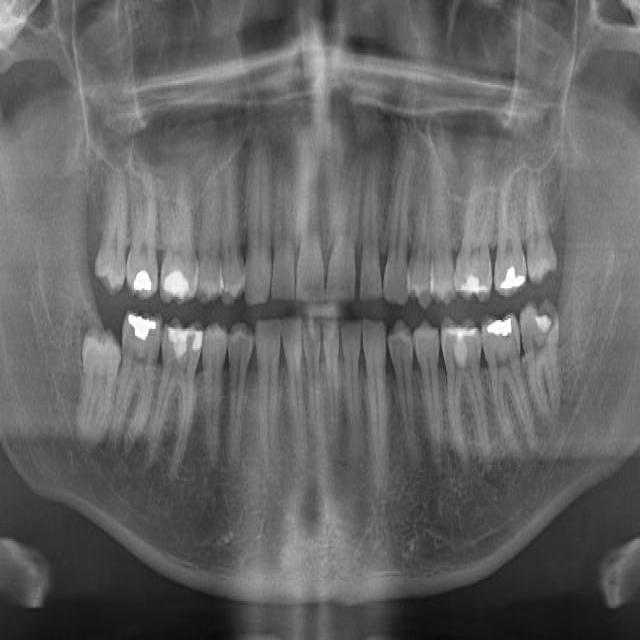dolgu: (524, 289, 562, 349), (160, 312, 207, 360), (440, 306, 480, 354), (119, 307, 163, 349), (164, 247, 195, 306), (495, 248, 525, 298), (127, 255, 160, 298), (485, 308, 520, 347), (458, 260, 492, 300)
